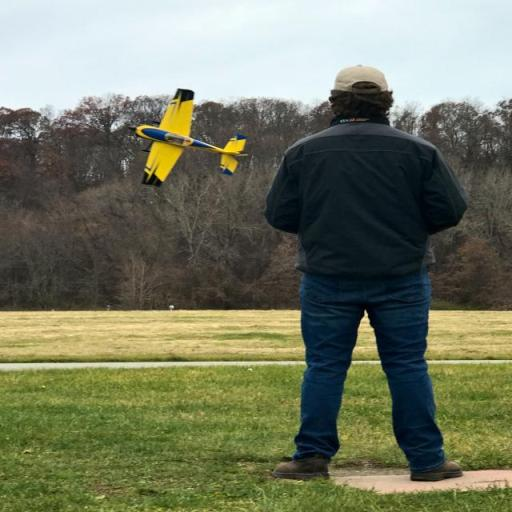uav: (128, 85, 258, 192)
